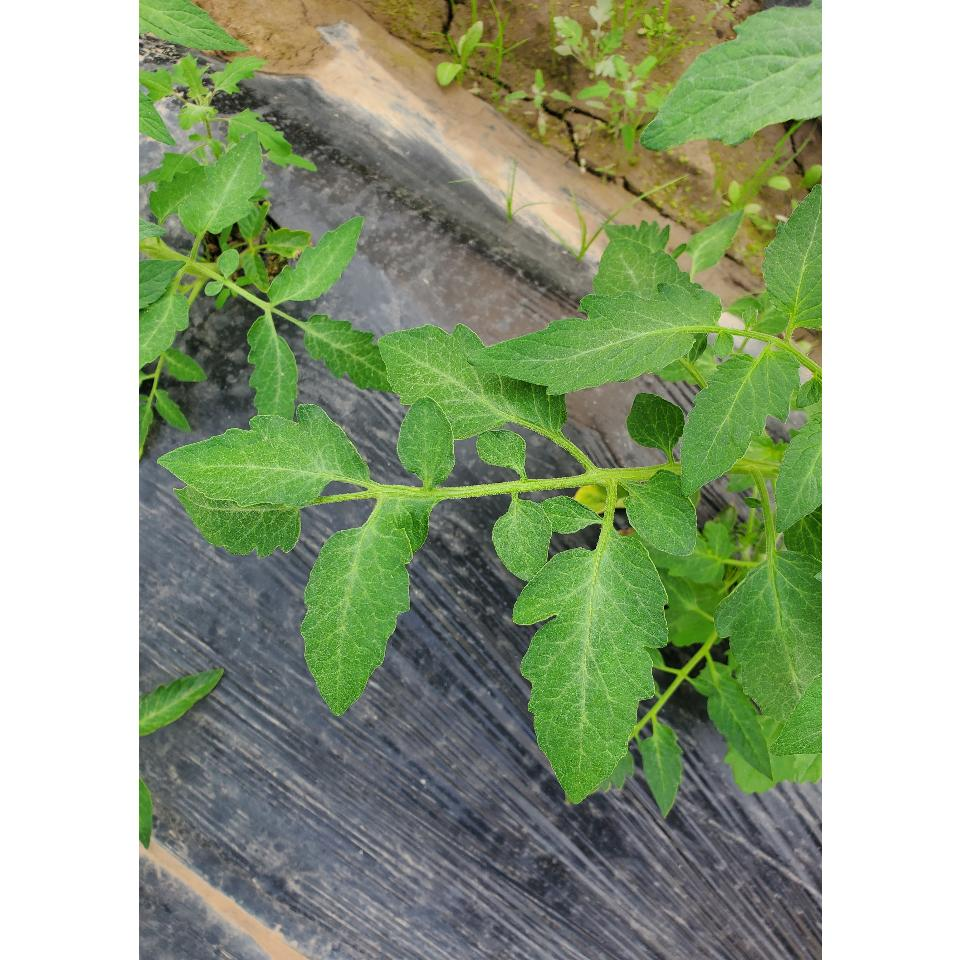tomato_leaves: (518, 530, 670, 804), (468, 283, 720, 394), (302, 520, 416, 714), (154, 406, 364, 502), (178, 128, 264, 236), (268, 216, 364, 300), (401, 394, 451, 484)
